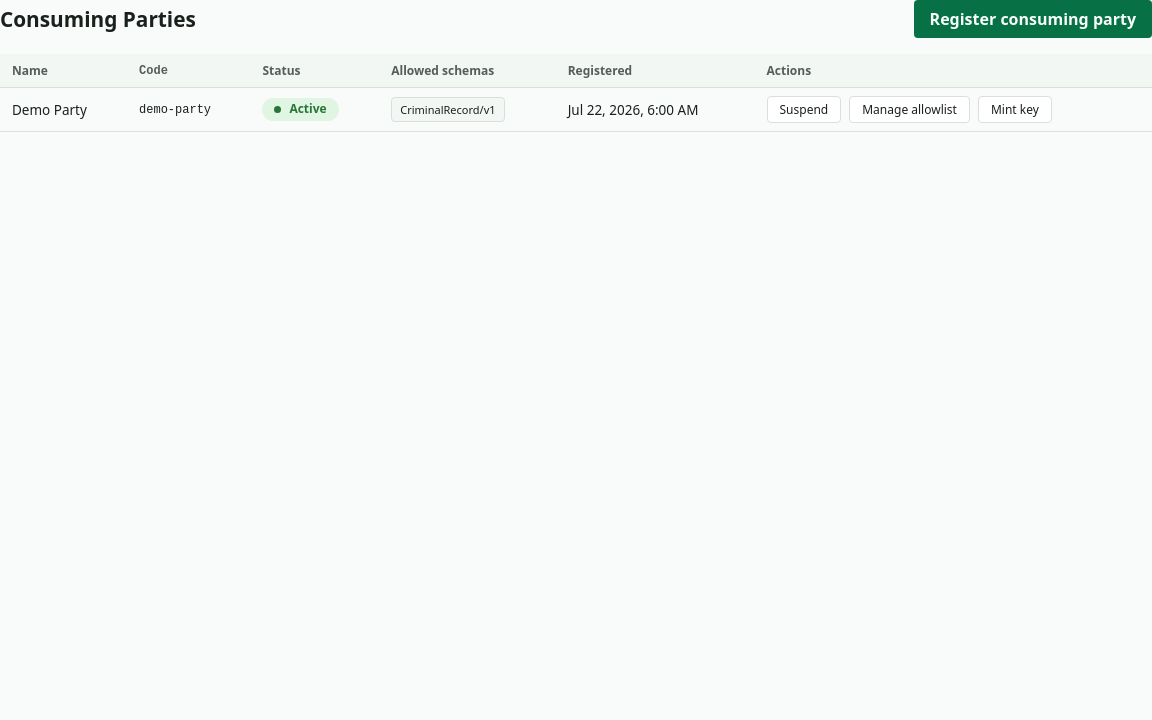
Test: ConsumingPartiesPage mint-key flow › shows the one-time key modal exactly once per mint, and the raw key never enters the query cache
The image size is (1152, 720).
Click the button "Mint key".
click(1015, 110)  # box [978,96,1052,123]
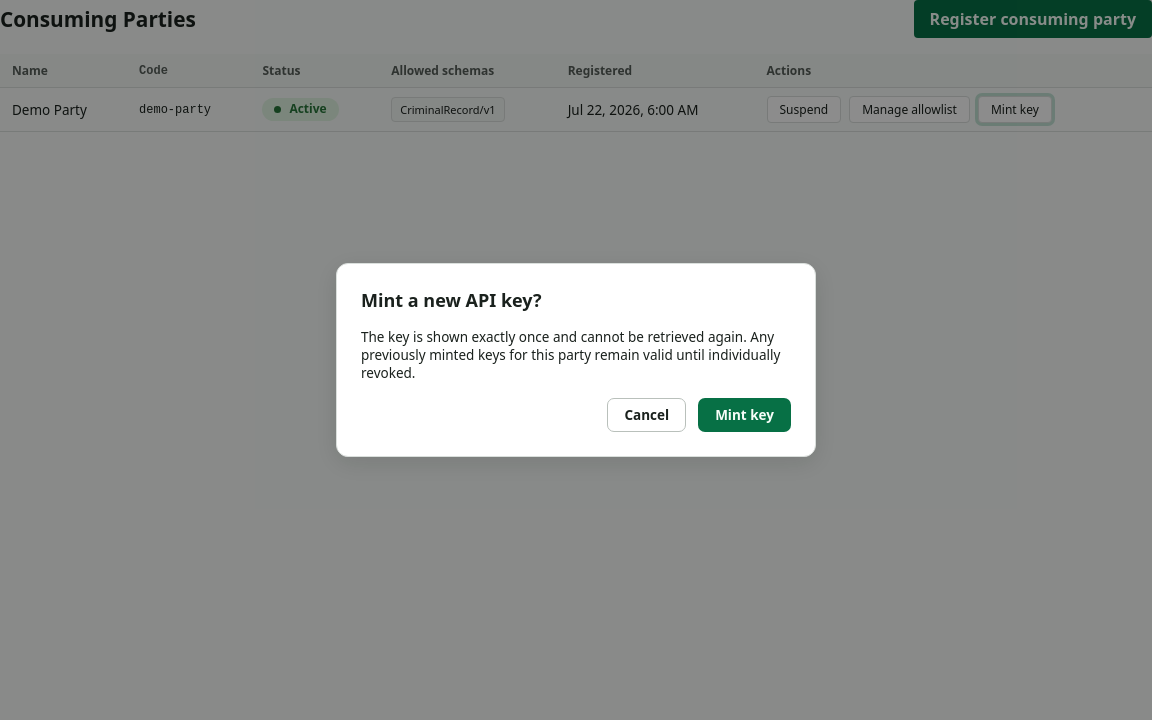
Click the button "Mint key".
click(745, 415)  # box [698,398,791,432]
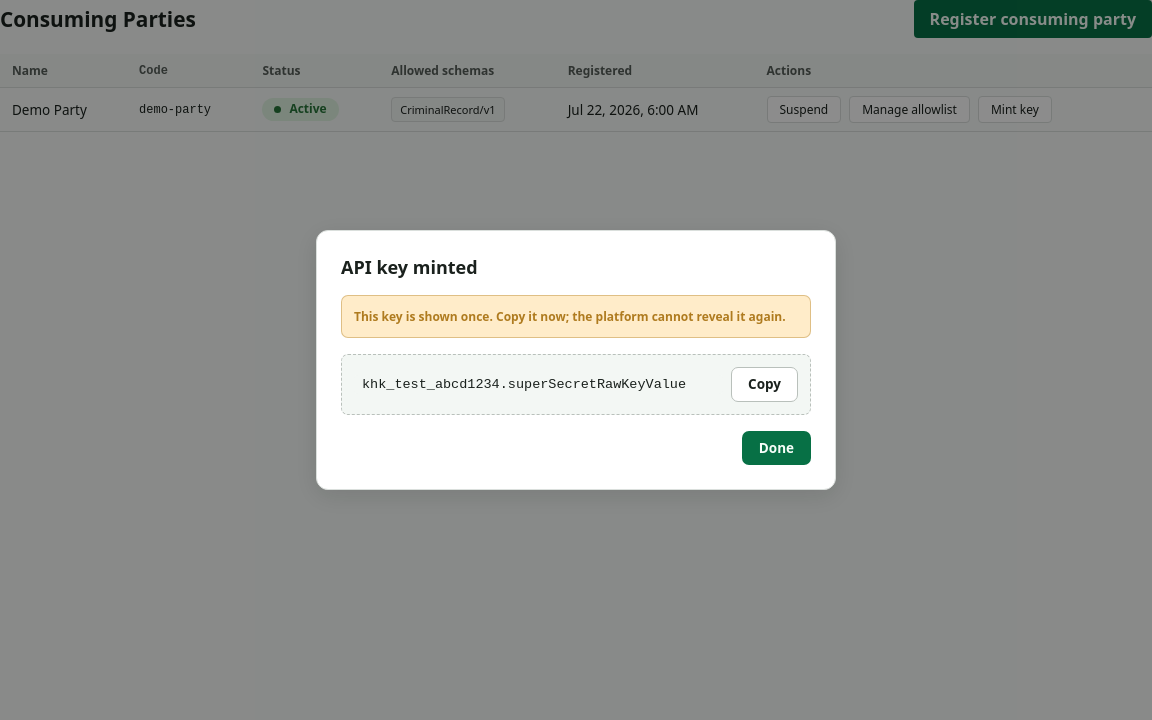
Now the text "khk_test_abcd1234.superSecretRawKeyValue" is shown once, box [354,375,723,394]
